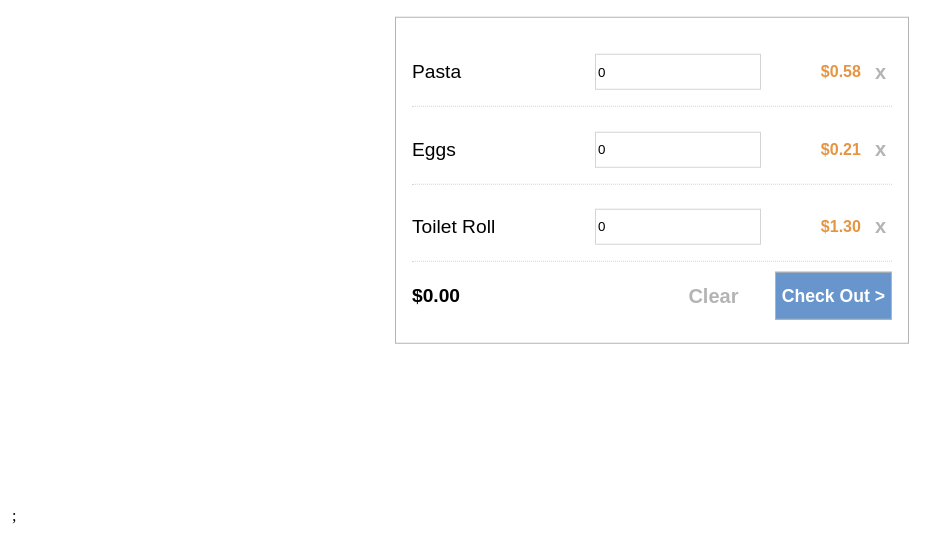
it: <Cart /> › correctly deletes an item and updates total
The width and height of the screenshot is (926, 541).
Replace the text in the number field next to "$0.58" with "2" at (678, 72), box [595,54,761,90]
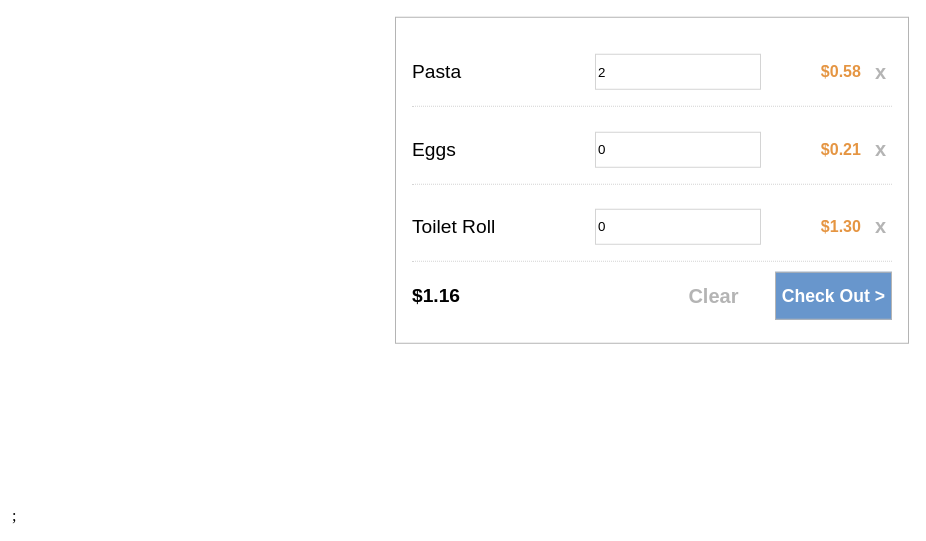
Click the button "x" next to "$0.58".
click(880, 72)  # box [869,59,892,84]
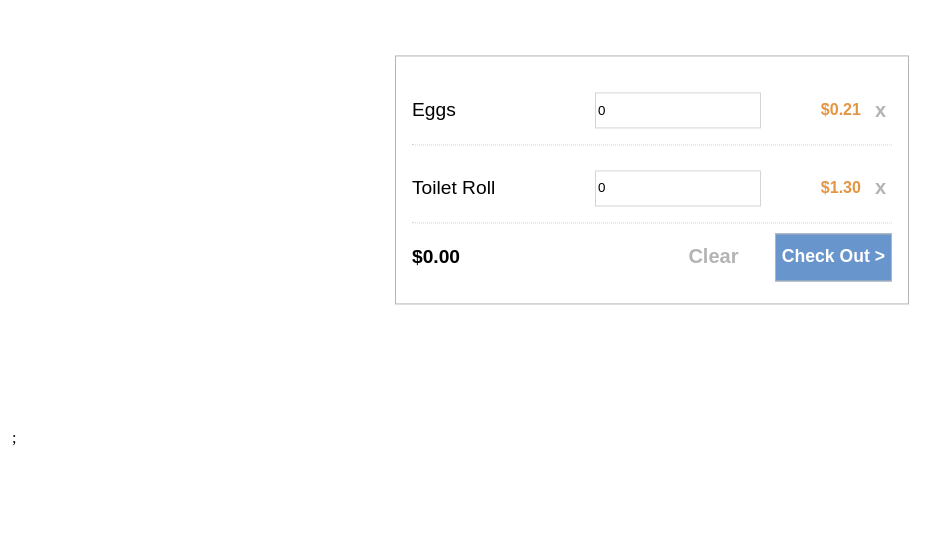
Expected: the number of elements with test id "cartItem" is 2, [412,76,892,146]; [412,154,892,223]
Expected: the text "Pasta" is gone
Expected: the text with test id "cartTotal" reads "$0.00", [412,246,460,267]
